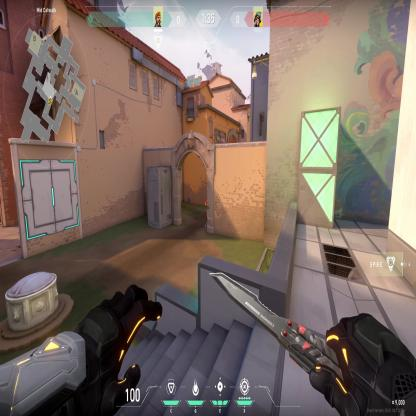enemy: (204, 198, 207, 227)
